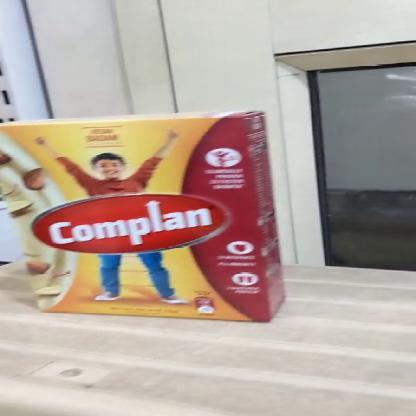Complan Kesar Badam: (0, 107, 297, 326)
